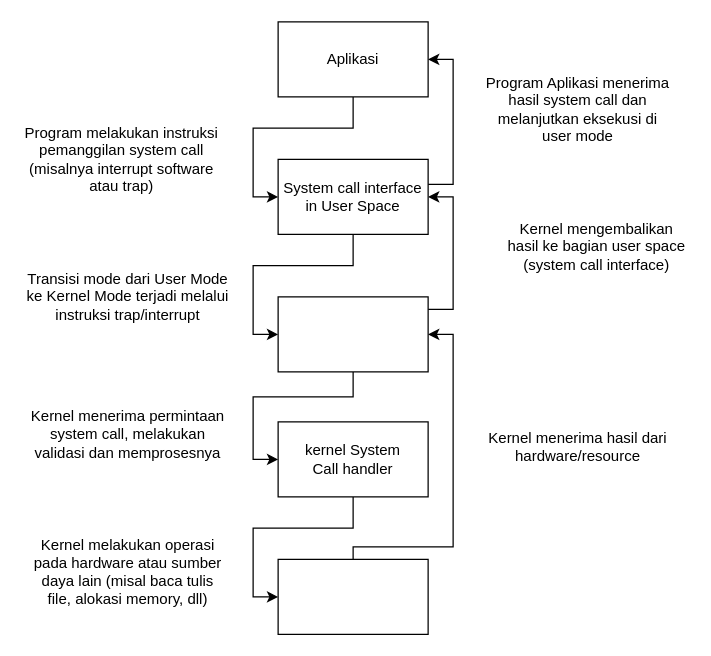
This 711x656 diagram has some shape labels left out. The centre of each missing label's shape, as x and y in pixels:
Hardware: the point at 352,596
Kernel Trap handler: the point at 352,334
